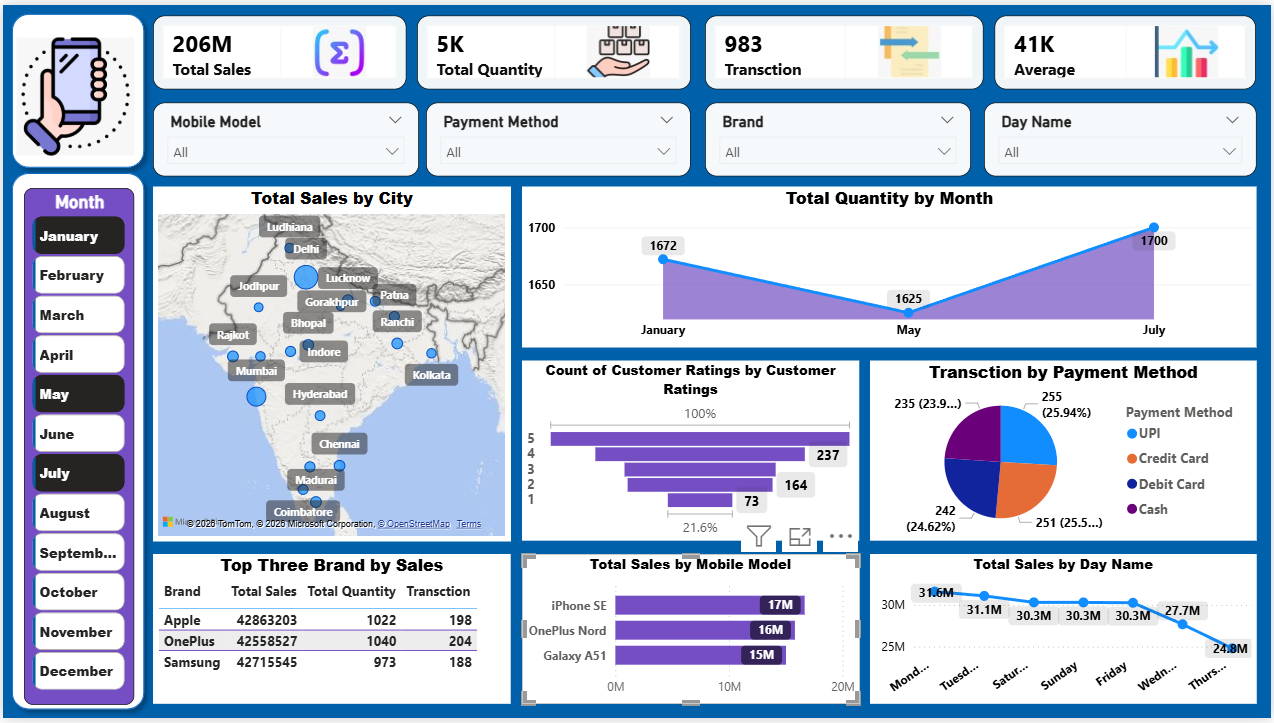

What the dashboard file says about the page in this screenshot:
{"tool":"powerbi","page":{"name":"Page 1","canvas":[1280,720],"ordinal":0},"visuals":[{"type":"shape","box":[0,0,151.7,173.3],"z":0},{"type":"shape","box":[0,160,151.7,560],"z":1000},{"type":"advancedSlicerVisual","fields":{"Values":["Mobile Sales Data.Date.Variation.Date Hierarchy.Month"]},"box":[20.7,184.5,111.3,521.7],"z":2000},{"type":"map","fields":{"Category":["Mobile Sales Data.City"],"Size":["Mobile Sales Data.Total Sales"]},"box":[151.7,183.9,361.4,358.2],"z":3000},{"type":"lineChart","fields":{"Category":["Mobile Sales Data.Date.Variation.Date Hierarchy.Month","Mobile Sales Data.Date.Variation.Date Hierarchy.Day"],"Y":["Mobile Sales Data.Total Quantity"]},"box":[524.4,183.9,742.2,163],"z":4000},{"type":"funnel","fields":{"Category":["Mobile Sales Data.Customer Ratings"],"Y":["CountNonNull(Mobile Sales Data.Customer Ratings)"]},"box":[524.4,359.8,340.4,182.3],"z":5000},{"type":"pieChart","fields":{"Category":["Mobile Sales Data.Payment Method"],"Y":["Mobile Sales Data.Transction"]},"box":[876.1,359.8,390.5,182.3],"z":6000},{"type":"lineChart","fields":{"Category":["Mobile Sales Data.Day Name"],"Y":["Mobile Sales Data.Total Sales"]},"box":[876.1,555,390.5,151.7],"z":7000},{"type":"tableEx","title":"Top Three Brand by Sales","fields":{"Values":["Mobile Sales Data.Brand","Mobile Sales Data.Total Sales","Mobile Sales Data.Total Quantity","Mobile Sales Data.Transction"]},"box":[151.7,555,361.4,151.7],"z":8000},{"type":"clusteredBarChart","fields":{"Y":["Mobile Sales Data.Total Sales"],"Category":["Mobile Sales Data.Mobile Model"]},"box":[524.4,555,340.4,151.7],"z":9000},{"type":"slicer","fields":{"Values":["Mobile Sales Data.Mobile Model"]},"box":[151.1,98.6,268.8,74.8],"z":10000},{"type":"slicer","fields":{"Values":["Mobile Sales Data.Payment Method"]},"box":[427.9,98.6,267.2,74.8],"z":11000},{"type":"slicer","fields":{"Values":["Mobile Sales Data.Brand"]},"box":[709.4,98.6,268.8,74.8],"z":12000},{"type":"slicer","fields":{"Values":["Mobile Sales Data.Day Name"]},"box":[991,98.6,275.2,74.8],"z":13000},{"type":"cardVisual","fields":{"Data":["Mobile Sales Data.Total Sales"]},"box":[151.1,11.1,256.1,74.8],"z":14000},{"type":"cardVisual","fields":{"Data":["Mobile Sales Data.Total Quantity"]},"box":[418.3,11.1,276.8,74.8],"z":15000},{"type":"cardVisual","fields":{"Data":["Mobile Sales Data.Transction"]},"box":[709.4,11.1,281.5,74.8],"z":16000},{"type":"cardVisual","fields":{"Data":["Mobile Sales Data.Average"]},"box":[1002.1,11.1,264,74.8],"z":17000},{"type":"image","box":[13.6,12.1,119.6,160.5],"z":17001}]}

Visuals, with their boxes in screenshot pixels (x1, y1, x2, y2), scaled from the page's 1280x720 canvas onto the 1274x723 screenshot:
shape: bbox=[0, 0, 151, 174]
shape: bbox=[0, 161, 151, 722]
advancedSlicerVisual - Mobile Sales Data.Date.Variation.Date Hierarchy.Month: bbox=[21, 185, 131, 709]
map - Mobile Sales Data.City x Mobile Sales Data.Total Sales: bbox=[151, 185, 511, 544]
lineChart - Mobile Sales Data.Date.Variation.Date Hierarchy.Month x Mobile Sales Data.Date.Variation.Date Hierarchy.Day: bbox=[522, 185, 1261, 348]
funnel - Mobile Sales Data.Customer Ratings x CountNonNull(Mobile Sales Data.Customer Ratings): bbox=[522, 361, 861, 544]
pieChart - Mobile Sales Data.Payment Method x Mobile Sales Data.Transction: bbox=[872, 361, 1261, 544]
lineChart - Mobile Sales Data.Day Name x Mobile Sales Data.Total Sales: bbox=[872, 557, 1261, 710]
"Top Three Brand by Sales" tableEx: bbox=[151, 557, 511, 710]
clusteredBarChart - Mobile Sales Data.Total Sales x Mobile Sales Data.Mobile Model: bbox=[522, 557, 861, 710]
slicer - Mobile Sales Data.Mobile Model: bbox=[150, 99, 418, 174]
slicer - Mobile Sales Data.Payment Method: bbox=[426, 99, 692, 174]
slicer - Mobile Sales Data.Brand: bbox=[706, 99, 974, 174]
slicer - Mobile Sales Data.Day Name: bbox=[986, 99, 1260, 174]
cardVisual - Mobile Sales Data.Total Sales: bbox=[150, 11, 405, 86]
cardVisual - Mobile Sales Data.Total Quantity: bbox=[416, 11, 692, 86]
cardVisual - Mobile Sales Data.Transction: bbox=[706, 11, 986, 86]
cardVisual - Mobile Sales Data.Average: bbox=[997, 11, 1260, 86]
image: bbox=[14, 12, 133, 173]
